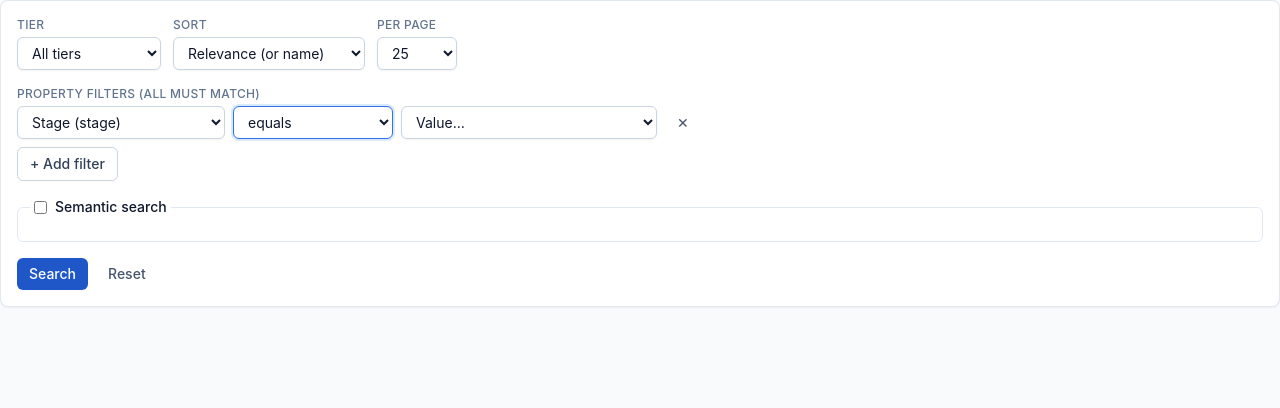
it: typed properties get typed operators and value inputs
Earlier steps of the test are not shown.
Step 1. Select "Seed" in the dropdown named "Filter value" → (529, 122), box 401,106 -> 657,139
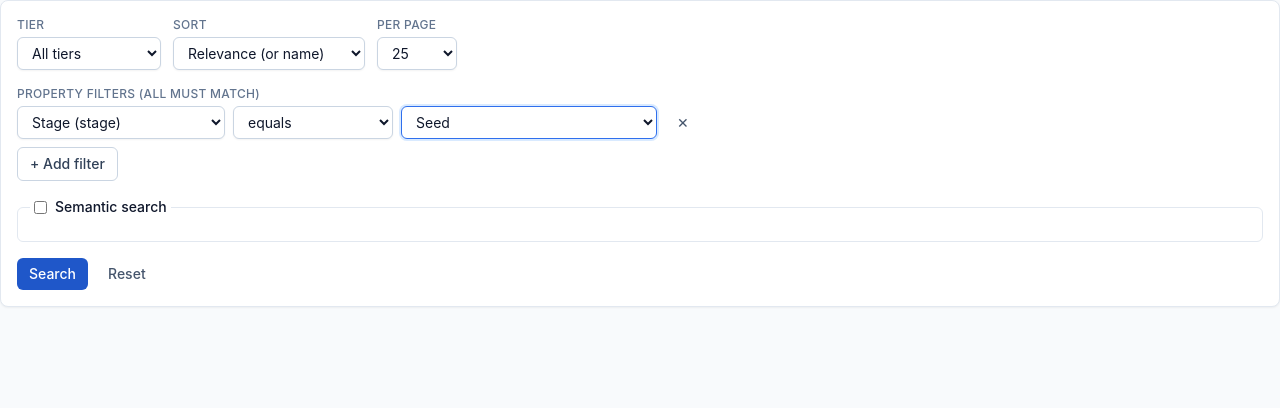
Step 2. Click the button "+ Add filter" → (67, 164), box 17,147 -> 118,181
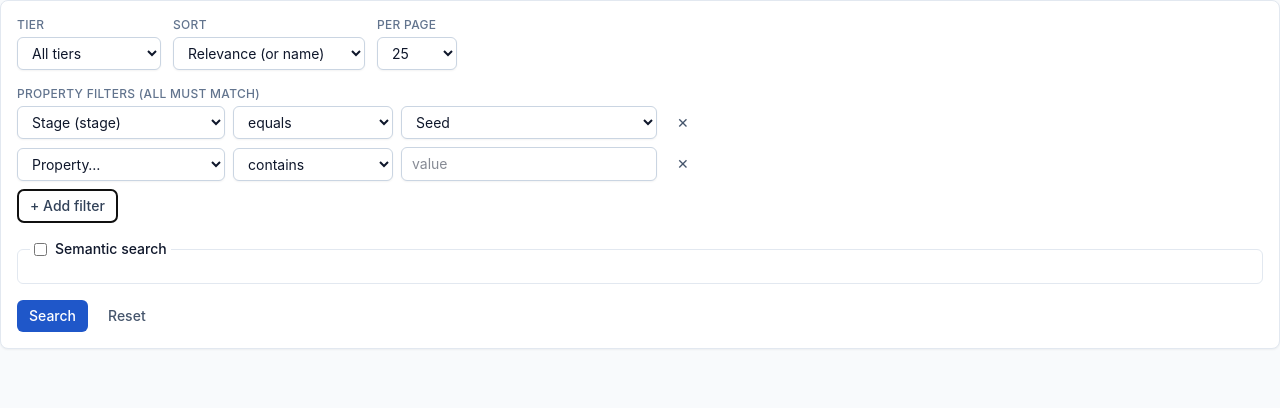
Step 3. Select "MRR (mrr)" in the 2nd dropdown named "Filter field" → (121, 164), box 17,148 -> 225,180
Step 4. Select "≥" in the 2nd dropdown named "Filter operator" → (313, 164), box 233,148 -> 393,180
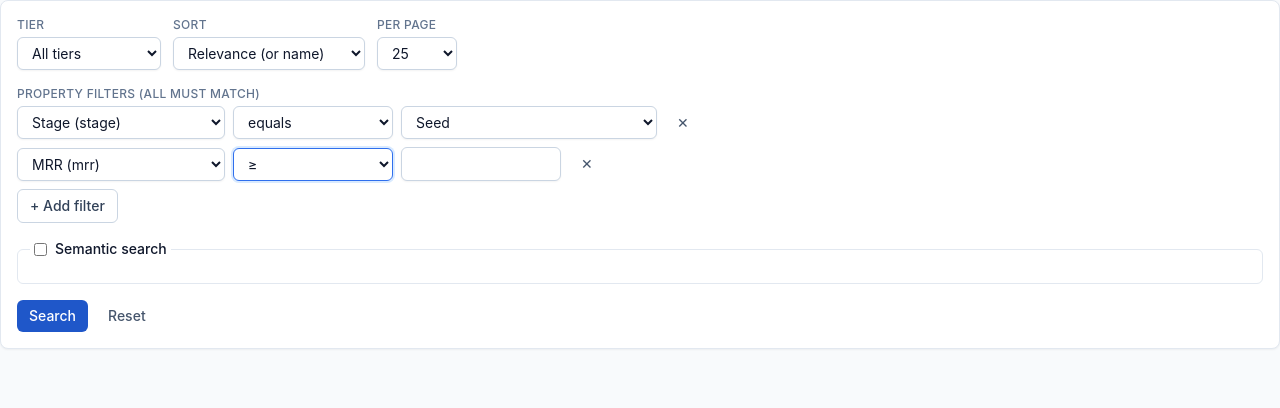
Check: the number field named "Filter value" has attribute type="number"
Step 5. Type "5000" into the number field named "Filter value" → (481, 164), box 401,147 -> 561,181
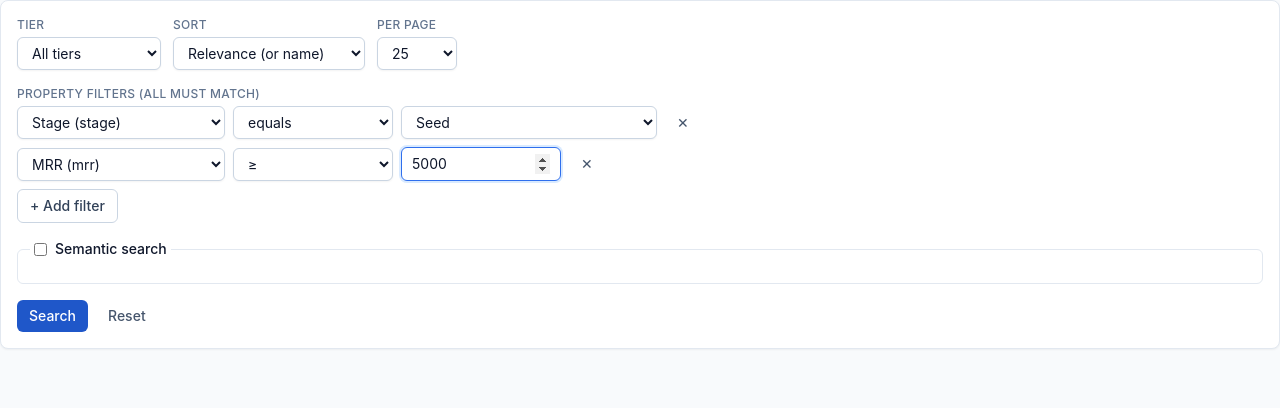
Step 6. Click the button "+ Add filter" → (67, 206), box 17,189 -> 118,223
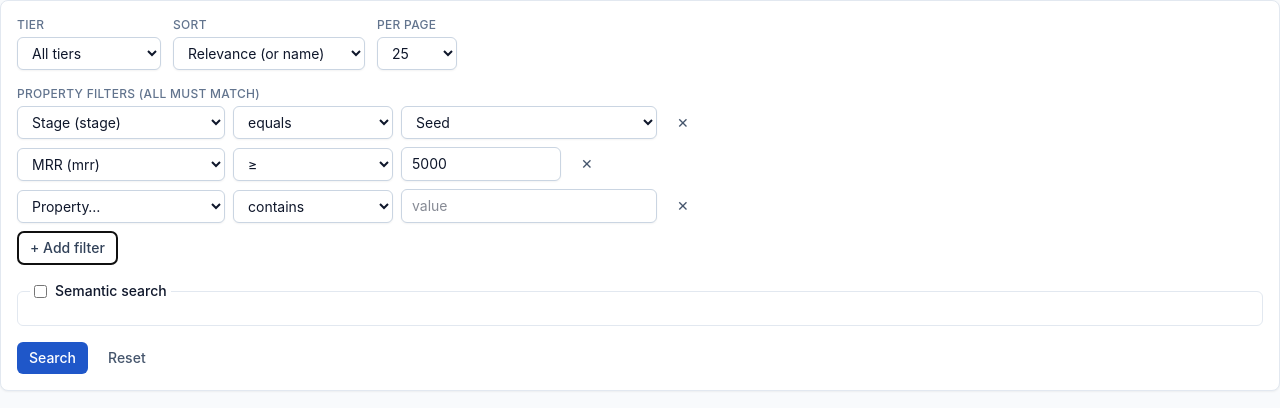
Step 7. Select "Joined (joined)" in the 3rd dropdown named "Filter field" → (121, 206), box 17,190 -> 225,222
Step 8. Select "<" in the 3rd dropdown named "Filter operator" → (313, 206), box 233,190 -> 393,222
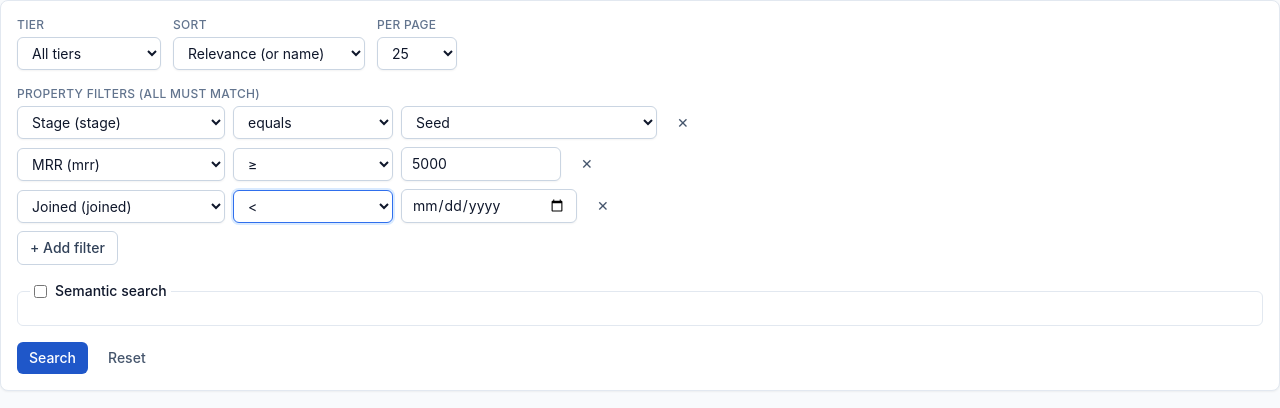
Check: the date field named "Filter value" has attribute type="date", box 401,189 -> 577,223
